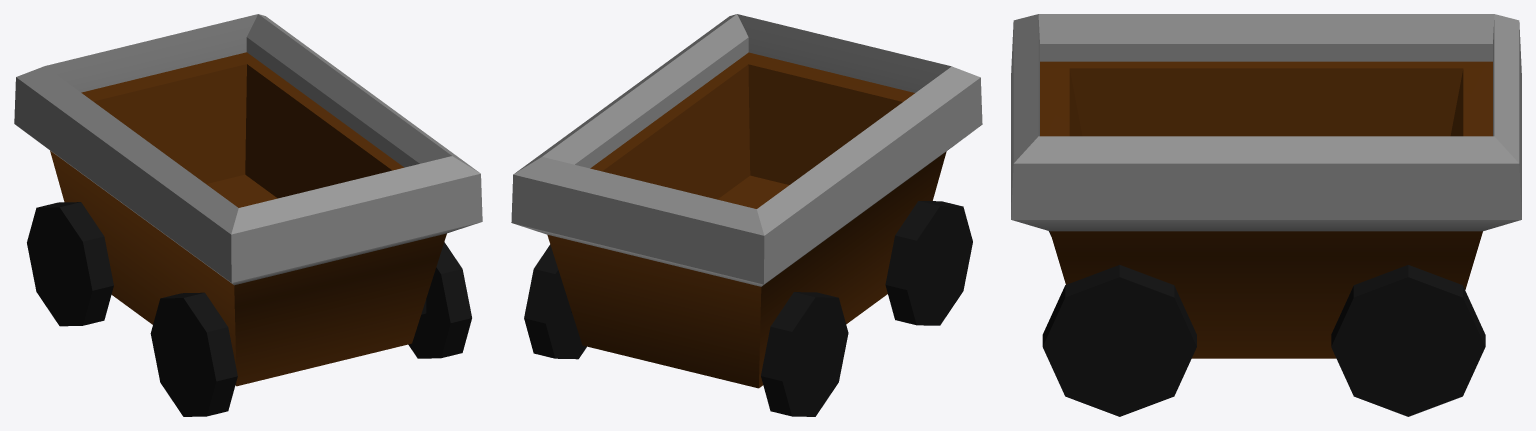
Rendered from minecart.fbx.
3 views of the same model, side by side, from view 1: azimuth 30°, elevation 25°; view 2: azimuth 150°, elevation 25°; view 3: azimuth 270°, elevation 25° (orthographic). The views are drawn at different scales.
Visible parts, largest first — view 1: Minecart3; view 2: Minecart3; view 3: Minecart3.
Part boxes in pixels (x1,y1,x2,y2): Minecart3: [14, 14, 482, 416]; Minecart3: [511, 14, 982, 416]; Minecart3: [1011, 14, 1521, 416].
Bounding box in the file's own units: 45.2 × 38.33 × 66.21.
